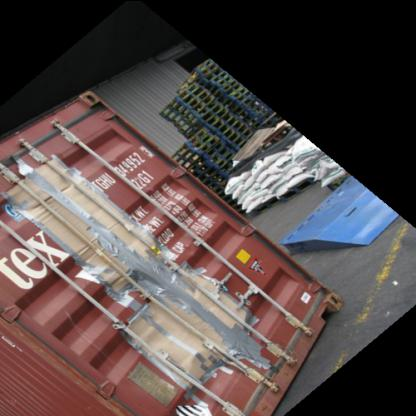Damage: (8, 154, 304, 362)
